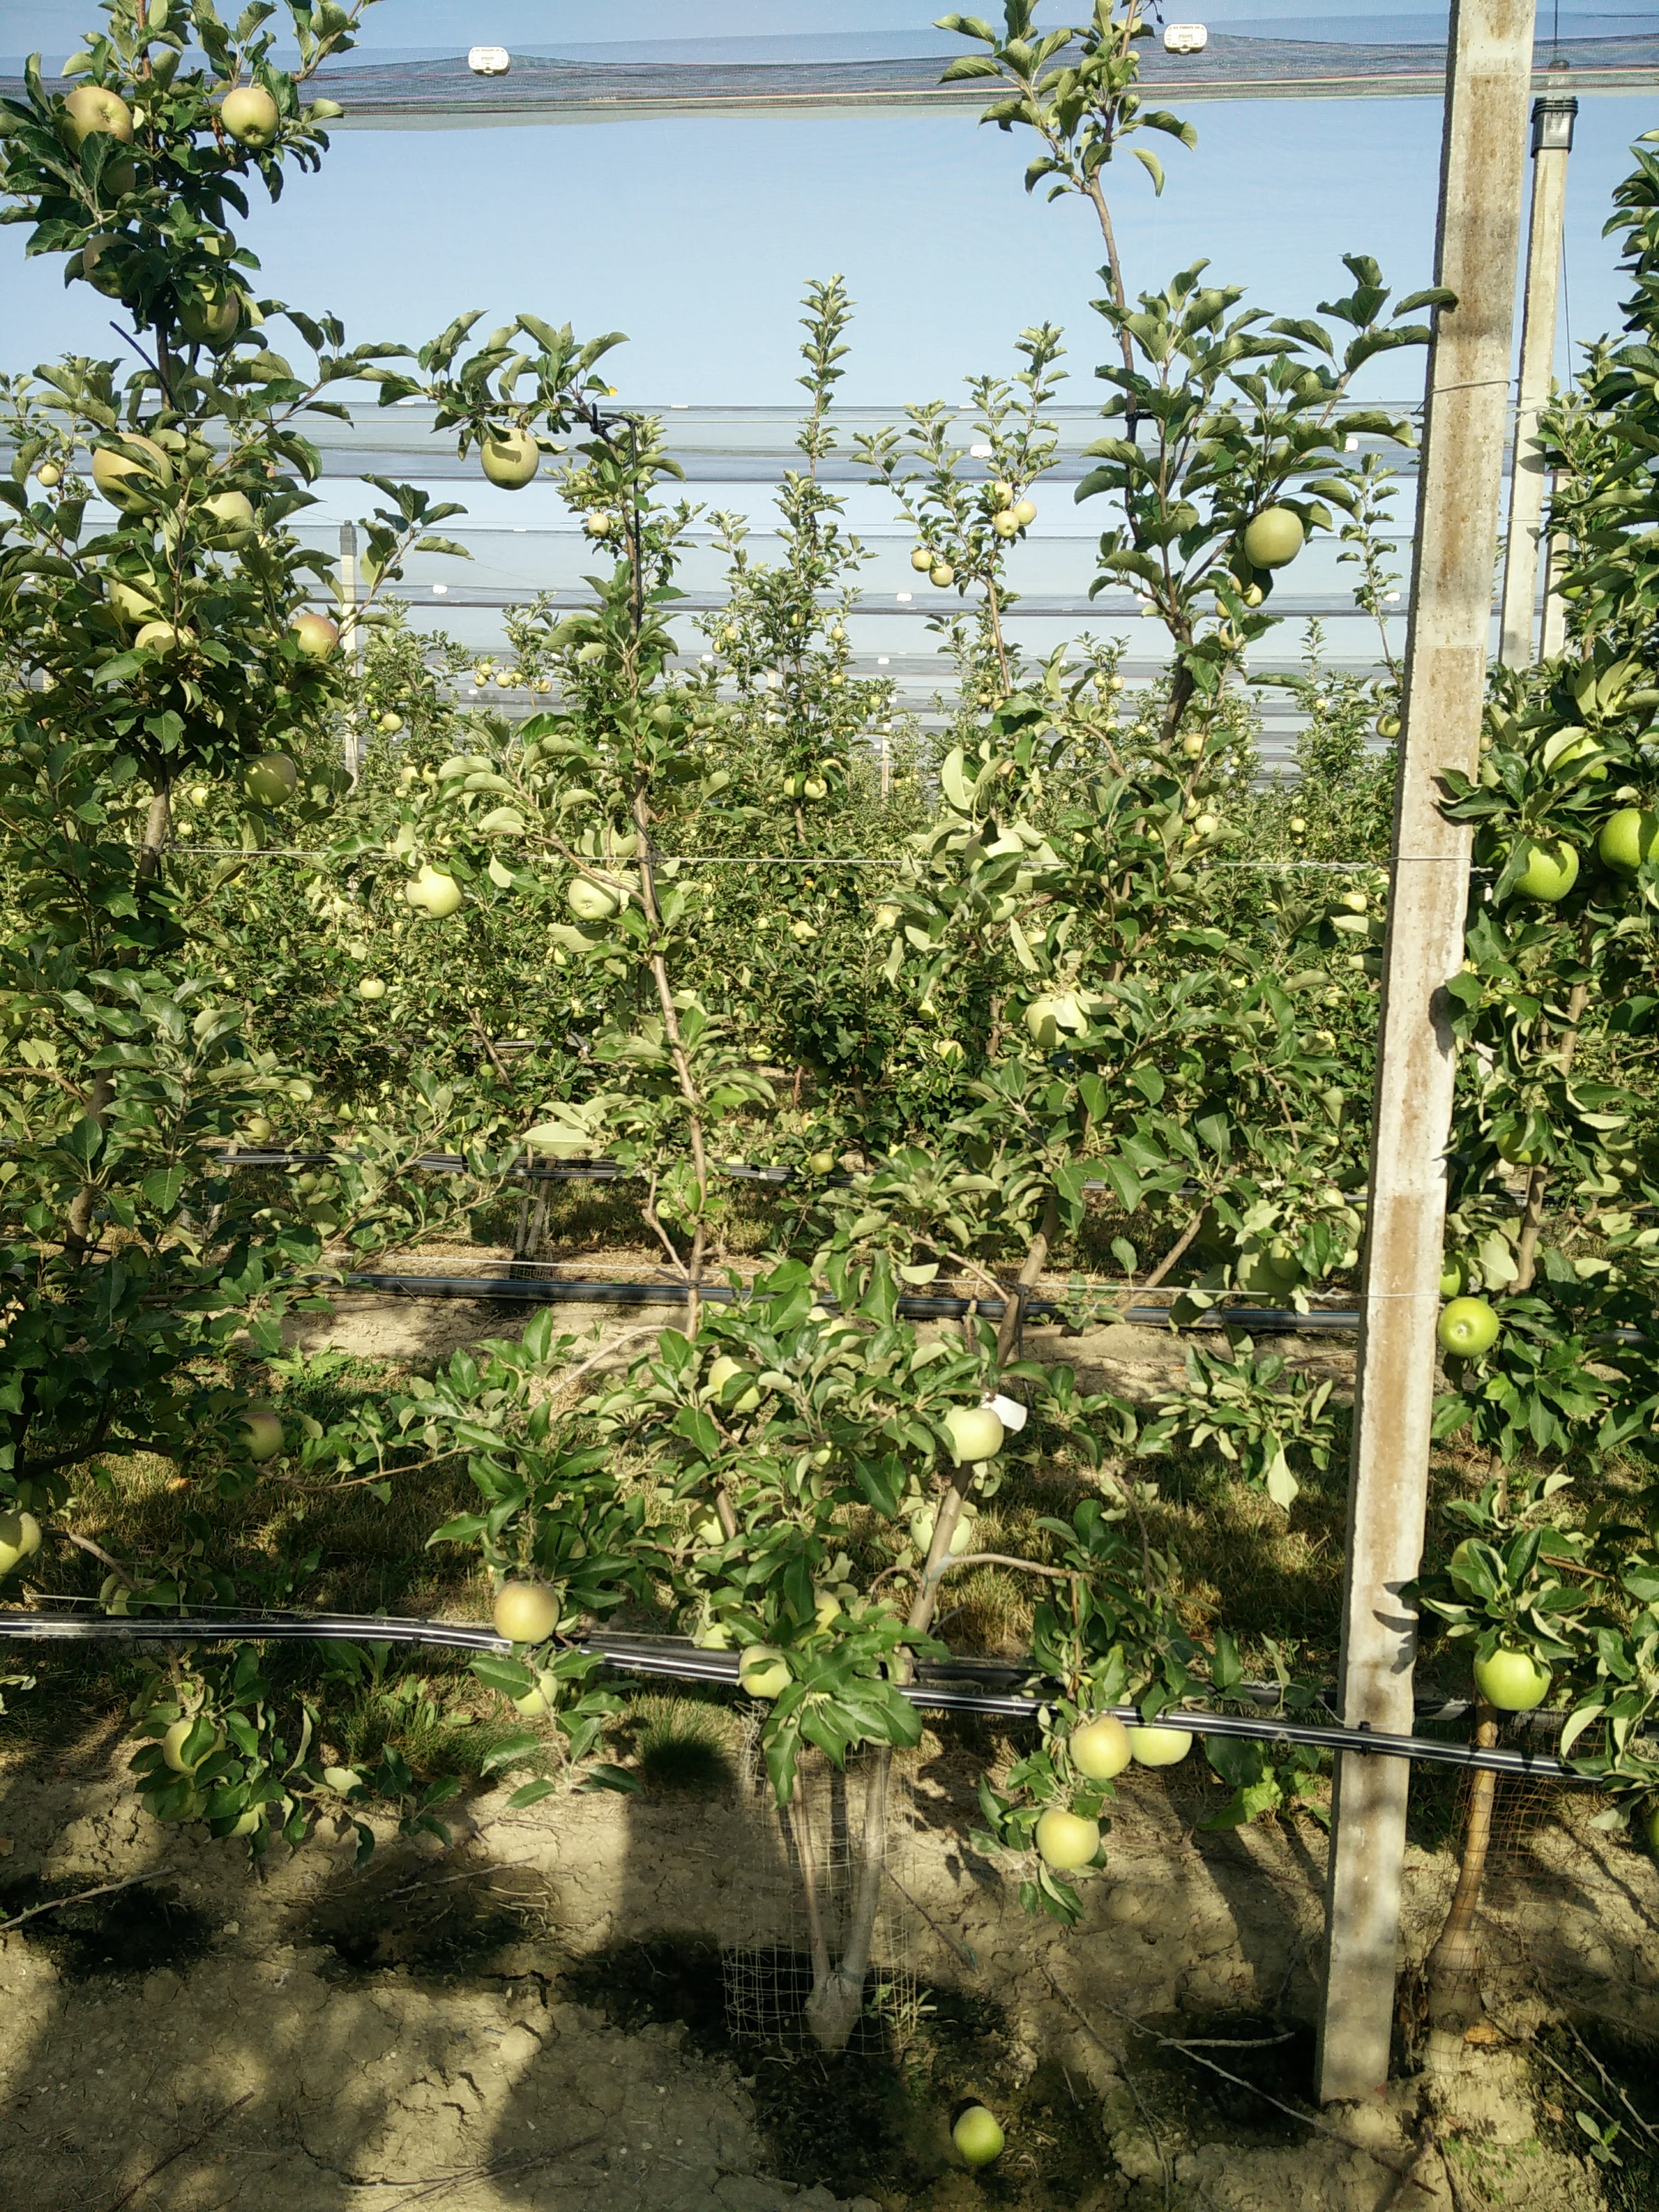apple: (87, 430, 174, 510), (1470, 1636, 1553, 1717), (485, 1579, 566, 1650), (1507, 830, 1578, 908), (1593, 802, 1659, 874), (1029, 1809, 1100, 1877), (476, 425, 546, 493), (1058, 1716, 1130, 1779), (1434, 1297, 1499, 1364), (216, 86, 283, 147), (934, 1407, 1005, 1467), (1241, 505, 1304, 570)
